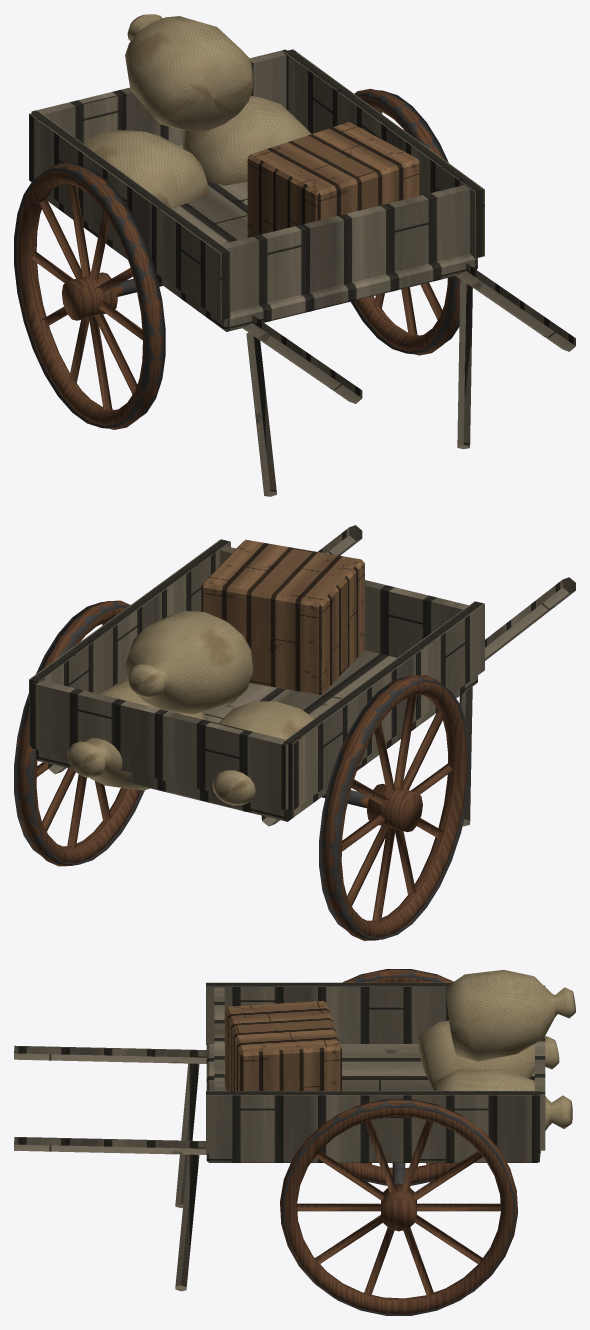
The model's file is hand_cart.glb.
The picture shows the model from 3 angles, top to bottom: view 1: azimuth 30°, elevation 25°; view 2: azimuth 150°, elevation 25°; view 3: azimuth 270°, elevation 25°; orthographic projection. The views are drawn at different scales.
Visible parts, largest first — view 1: CartBed, CartSacks, Wheels, CartCrate, CartIron; view 2: CartBed, Wheels, CartCrate, CartSacks, CartIron; view 3: CartBed, Wheels, CartSacks, CartCrate, CartIron.
Boxes of the visible parts, left/top/right/bottom form: CartBed: left=29, top=49, right=575, bottom=496; CartSacks: left=84, top=14, right=311, bottom=208; Wheels: left=17, top=88, right=461, bottom=429; CartCrate: left=247, top=122, right=419, bottom=237; CartIron: left=14, top=90, right=459, bottom=428; CartBed: left=29, top=525, right=575, bottom=826; Wheels: left=16, top=600, right=467, bottom=940; CartCrate: left=201, top=539, right=364, bottom=694; CartSacks: left=67, top=611, right=314, bottom=811; CartIron: left=14, top=601, right=470, bottom=940; CartBed: left=14, top=982, right=545, bottom=1291; Wheels: left=280, top=969, right=517, bottom=1313; CartSacks: left=418, top=969, right=575, bottom=1163; CartCrate: left=225, top=1001, right=341, bottom=1090; CartIron: left=281, top=969, right=516, bottom=1315.
Size of what is drawn, in the model's own units: 1.34 by 1.18 by 2.19.
5 materials, 5 textured.
